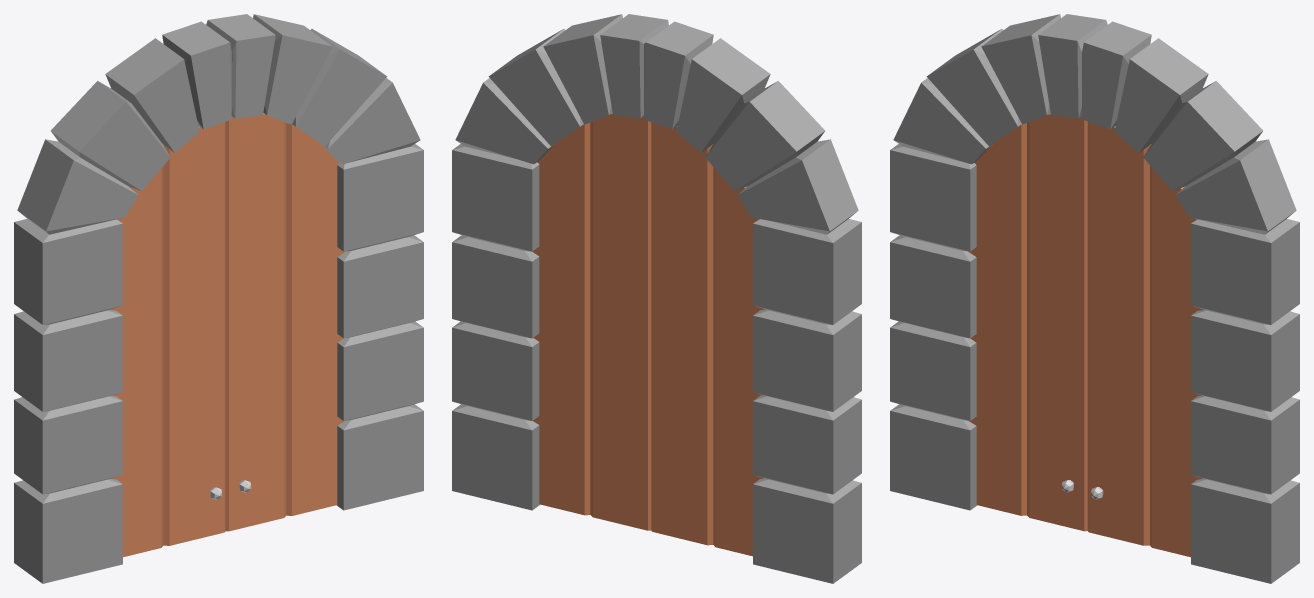
File: doubleDoor.fbx
The picture shows the model from 3 angles, left to right: view 1: azimuth 30°, elevation 25°; view 2: azimuth 150°, elevation 25°; view 3: azimuth 330°, elevation 25°; orthographic projection.
Parts seen in each view (by area): view 1: doorHole.001, Door.003, Door.004; view 2: doorHole.001, Door.003, Door.004; view 3: doorHole.001, Door.004, Door.003.
Boxes of the visible parts, bbox=[...] form: doorHole.001: bbox=[14, 14, 423, 583]; Door.003: bbox=[225, 113, 345, 531]; Door.004: bbox=[110, 122, 225, 557]; doorHole.001: bbox=[452, 14, 861, 583]; Door.003: bbox=[532, 113, 651, 530]; Door.004: bbox=[651, 122, 764, 556]; doorHole.001: bbox=[890, 14, 1299, 583]; Door.004: bbox=[968, 113, 1087, 531]; Door.003: bbox=[1087, 121, 1203, 557].
Bounding box in the file's own units: 620 × 771 × 84.04.
